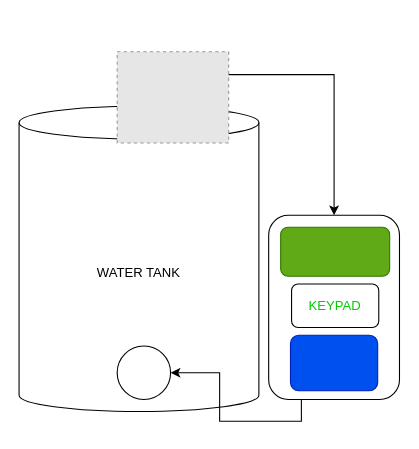
The diagram is 419 pixels wide and 449 high, and some of its shapes have lost their labels. Grey dashed boxes stand in for pictures. Each missing label, with the centre of its shape:
LCD: the point at 335,251
RFID: the point at 333,362
